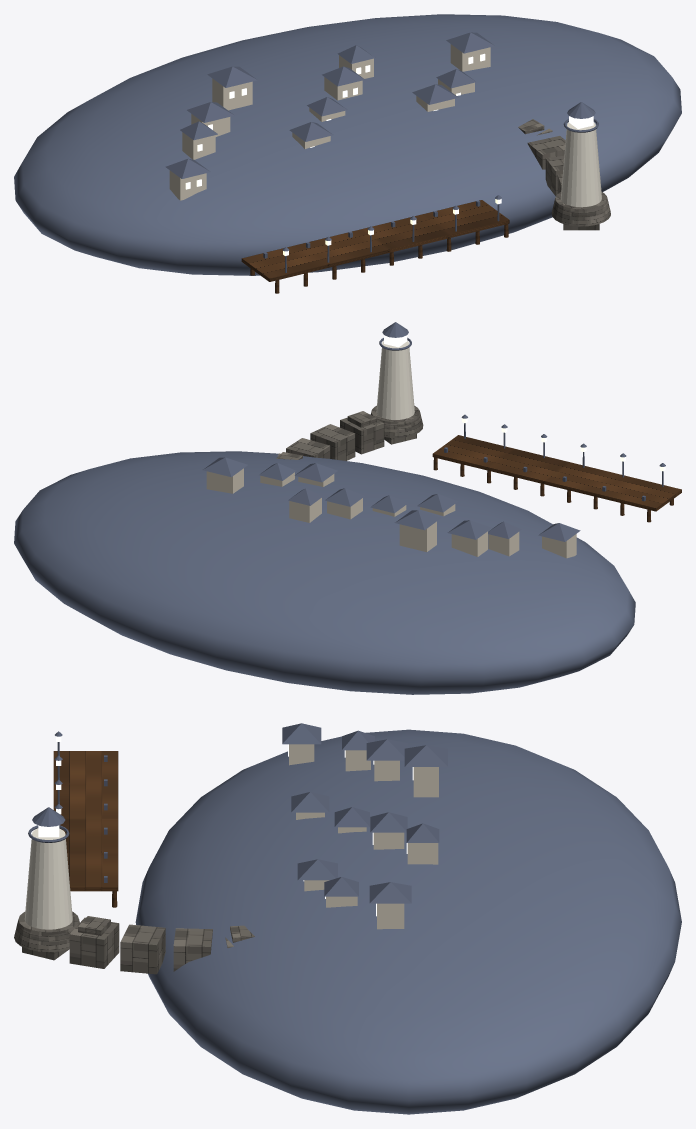
File: puerto.glb
3 views of the same model, one above another, from view 1: azimuth 30°, elevation 25°; view 2: azimuth 150°, elevation 25°; view 3: azimuth 270°, elevation 25° (orthographic). The views are drawn at different scales.
Visible parts, largest first — view 1: Ladera, MuelleTablero, FaroTorre, FaroBase, Casa3, Casa10, Espigon3, Casa0, CasaTejado3, Casa1, CasaTejado10, CasaTejado2 (+8 smaller); view 2: Ladera, MuelleTablero, FaroTorre, Espigon2, Espigon1, Casa3, FaroBase, Casa10, Espigon3, Casa2, Casa7, Casa0 (+1 smaller); view 3: Ladera, MuelleTablero, FaroTorre, Espigon2, Espigon1, FaroBase, Espigon3, CasaTejado3, CasaTejado10, CasaTejado2, Casa3, CasaTejado8 (+7 smaller).
Part boxes in pixels (bbox=[...]): Ladera: bbox=[14, 14, 681, 275]; MuelleTablero: bbox=[241, 200, 509, 281]; FaroTorre: bbox=[560, 122, 601, 207]; FaroBase: bbox=[551, 192, 610, 226]; Casa3: bbox=[212, 78, 252, 110]; Casa10: bbox=[450, 44, 490, 71]; Espigon3: bbox=[527, 136, 565, 169]; Casa0: bbox=[169, 170, 206, 200]; CasaTejado3: bbox=[207, 66, 257, 87]; Casa1: bbox=[182, 132, 215, 159]; CasaTejado10: bbox=[446, 32, 494, 53]; CasaTejado2: bbox=[187, 102, 234, 122]; Ladera: bbox=[14, 451, 635, 694]; MuelleTablero: bbox=[432, 435, 681, 511]; FaroTorre: bbox=[376, 341, 414, 419]; Espigon2: bbox=[310, 424, 355, 460]; Espigon1: bbox=[340, 417, 384, 454]; Casa3: bbox=[399, 521, 436, 552]; FaroBase: bbox=[370, 405, 423, 437]; Casa10: bbox=[206, 468, 243, 493]; Espigon3: bbox=[286, 438, 330, 458]; Casa2: bbox=[451, 531, 487, 556]; Casa7: bbox=[289, 498, 321, 522]; Casa0: bbox=[542, 534, 576, 558]; Ladera: bbox=[135, 729, 681, 1114]; MuelleTablero: bbox=[53, 751, 118, 891]; FaroTorre: bbox=[24, 828, 72, 929]; Espigon2: bbox=[120, 924, 165, 974]; Espigon1: bbox=[69, 917, 119, 968]; FaroBase: bbox=[14, 911, 79, 952]; Espigon3: bbox=[173, 928, 212, 971]; CasaTejado3: bbox=[404, 745, 447, 766]; CasaTejado10: bbox=[369, 882, 411, 903]; CasaTejado2: bbox=[366, 739, 407, 760]; Casa3: bbox=[413, 767, 438, 797]; CasaTejado8: bbox=[297, 859, 337, 880].
Size of the model in its own units: 68 by 20.65 by 53.8.
Materials: 9 (2 with a texture image).
